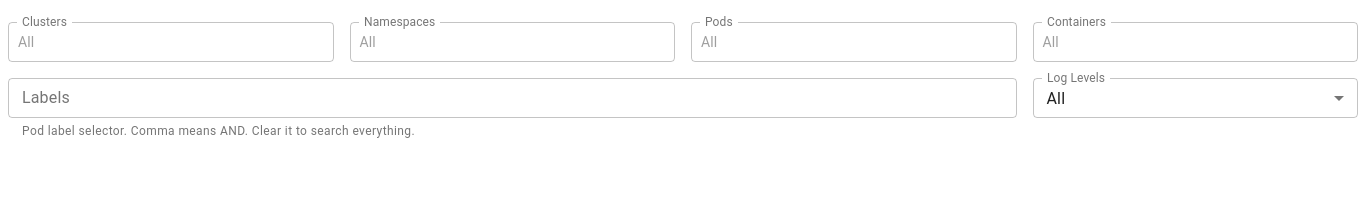
PlatformLogsFilterRow filter values › offers what the observer answered, with counts
This screenshot has width=1366, height=201.
Click the field labelled "Pods" at (847, 42), box x1=717 y1=28 x2=978 y2=56
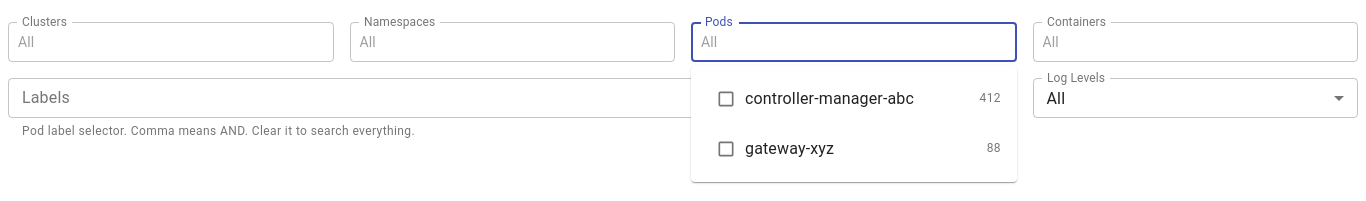
expect the option "controller-manager-abc 412" is shown: met, box x1=716 y1=89 x2=1001 y2=109
expect the text "412" is shown: met, box x1=980 y1=91 x2=1001 y2=105
